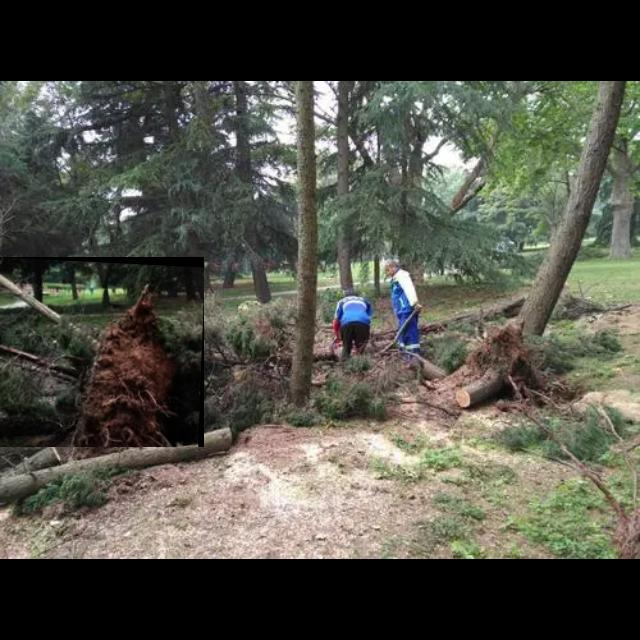Fallen Tree: (0, 257, 205, 448)
